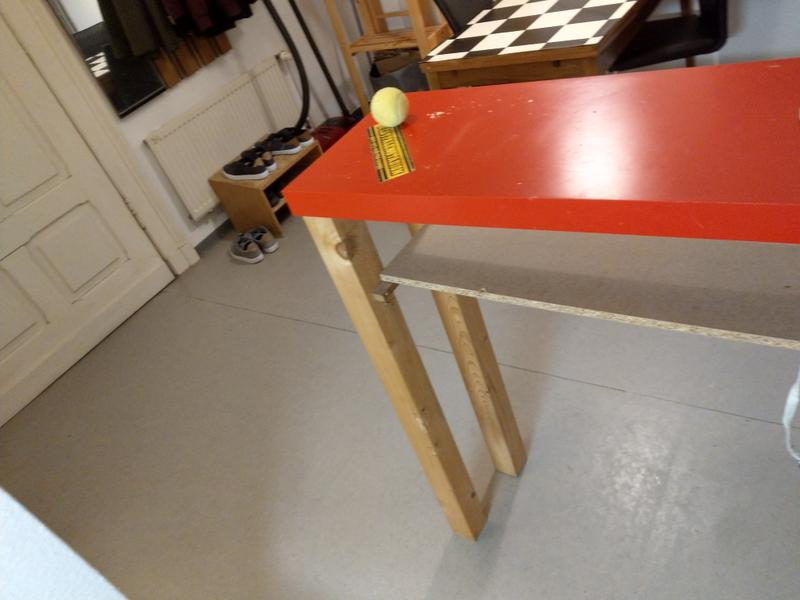Tennisball: (367, 84, 413, 132)
